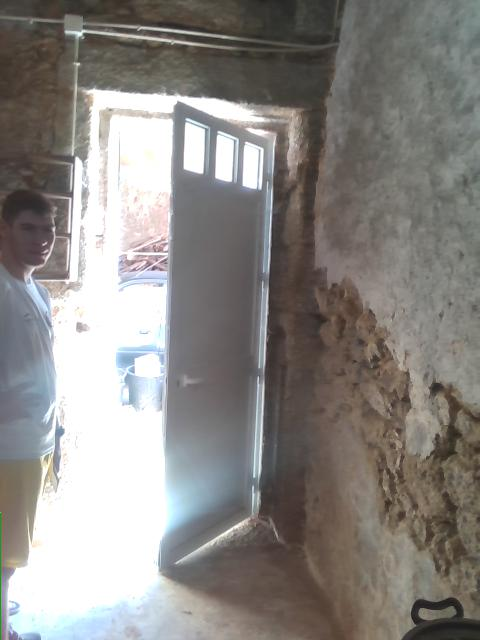semi_door: (91, 96, 281, 569)
